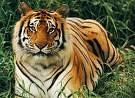tiger: (11, 2, 125, 98)
